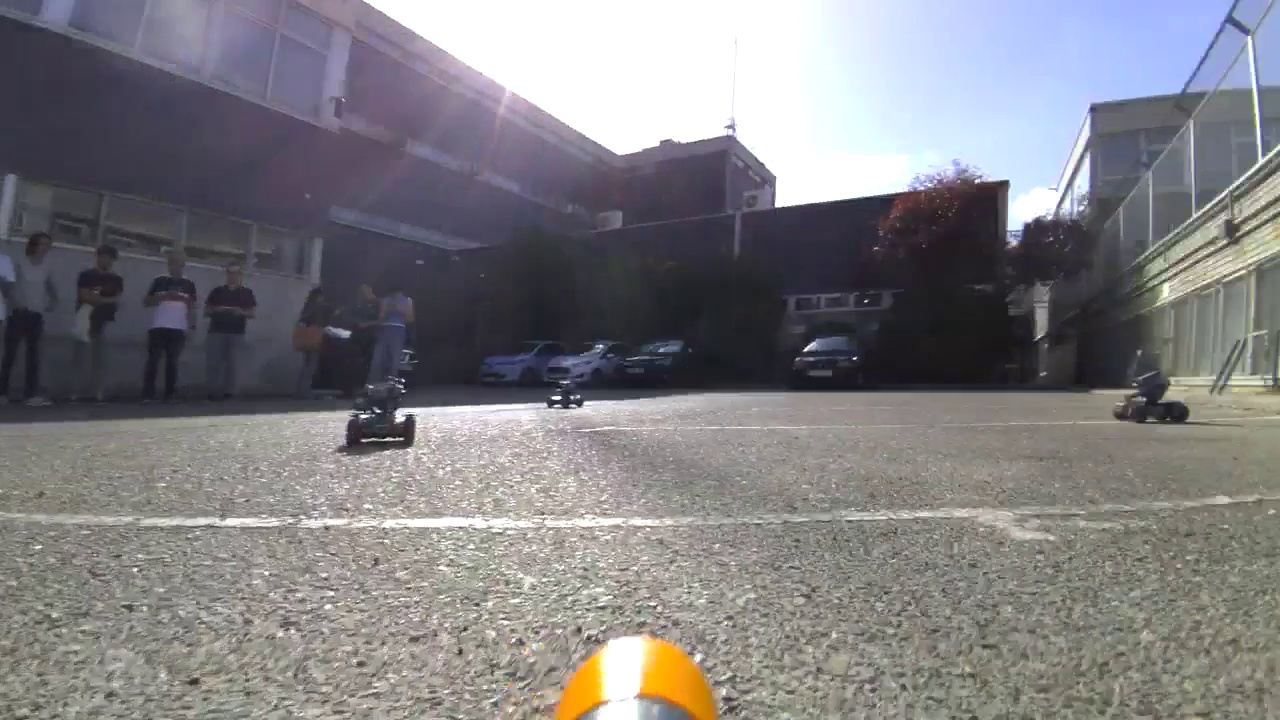robot: (1113, 365, 1195, 435), (342, 376, 416, 453), (541, 372, 588, 415)
